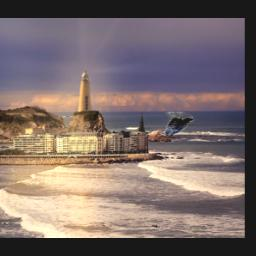Crow: (161, 112, 195, 136)
